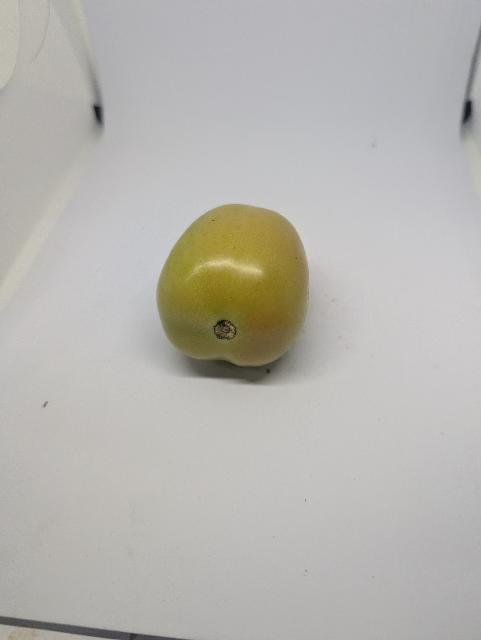breaker: (155, 202, 314, 368)
